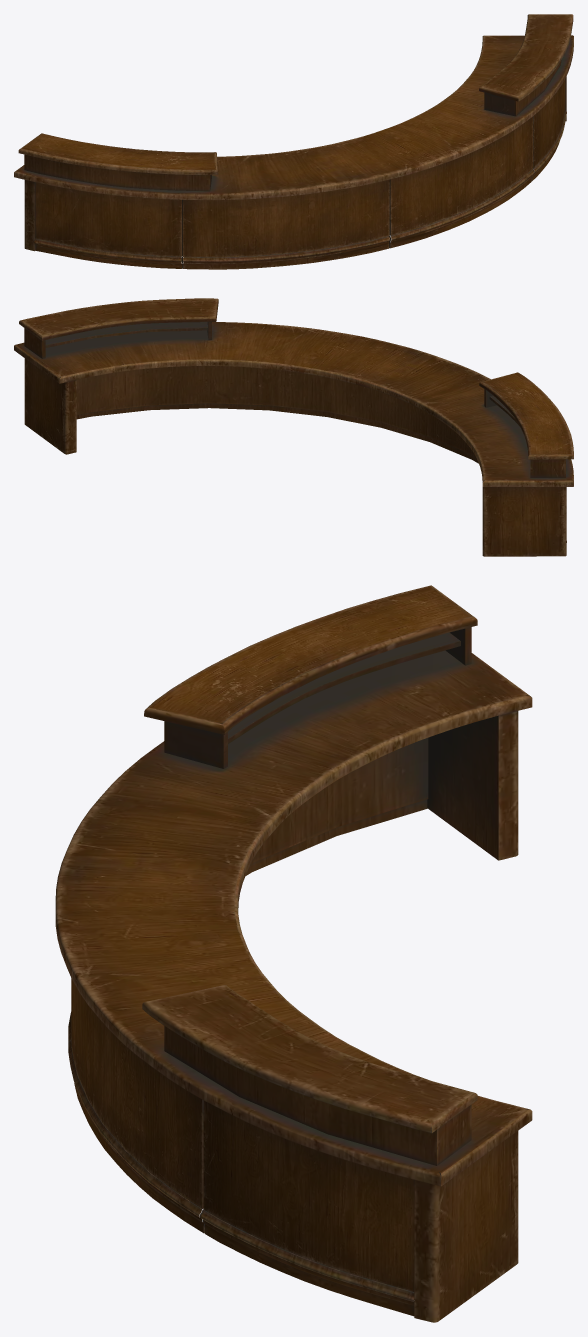
The model's file is secretary-desk-lobby.glb.
3 views of the same model, one above another, from view 1: azimuth 30°, elevation 25°; view 2: azimuth 150°, elevation 25°; view 3: azimuth 270°, elevation 25° (orthographic). The views are drawn at different scales.
Visible parts, largest first — view 1: Secretary_desk__0; view 2: Secretary_desk__0; view 3: Secretary_desk__0.
Boxes of the visible parts, x1,y1,x2,y2 form: Secretary_desk__0: (14,14,573,269); Secretary_desk__0: (14,298,573,556); Secretary_desk__0: (55,585,532,1322).
Size of the model in its own units: 7.22 by 1.26 by 2.66.
Materials: 1 (1 with a texture image).
